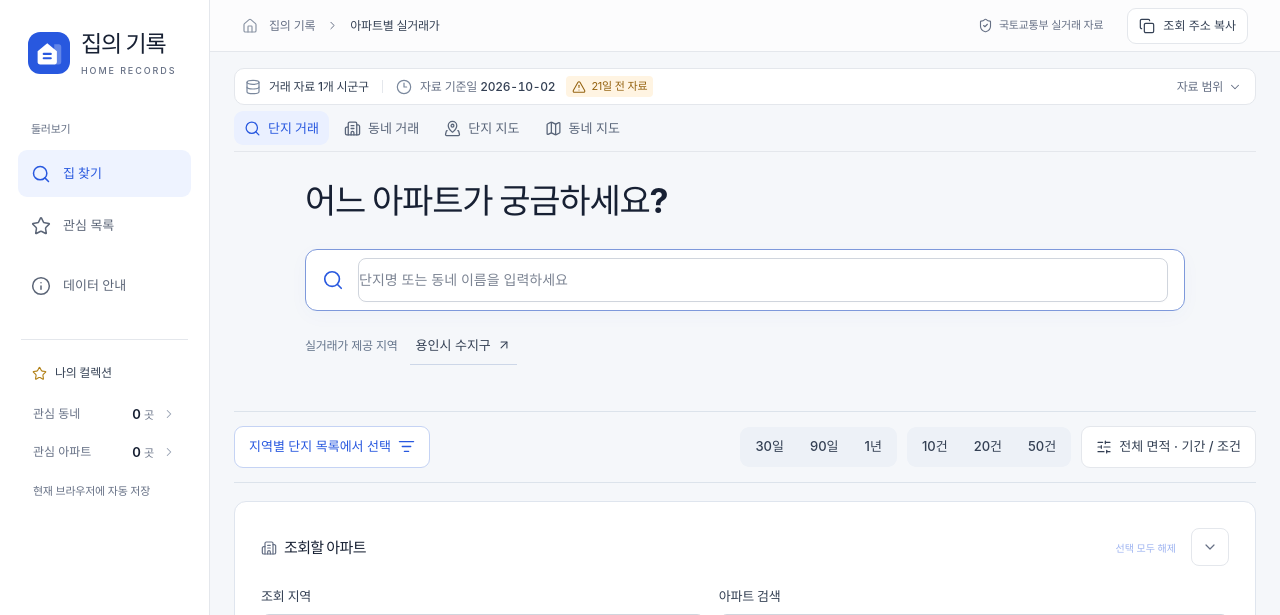
Test case: React transaction explorer › adds a personal apartment favorite through search while selecting multiple trades in the unified tab
The width and height of the screenshot is (1280, 615).
Click the button "전체 면적 · 기간 / 조건".
click(1169, 447)  # box [1081,426,1256,468]
(page scrolled)
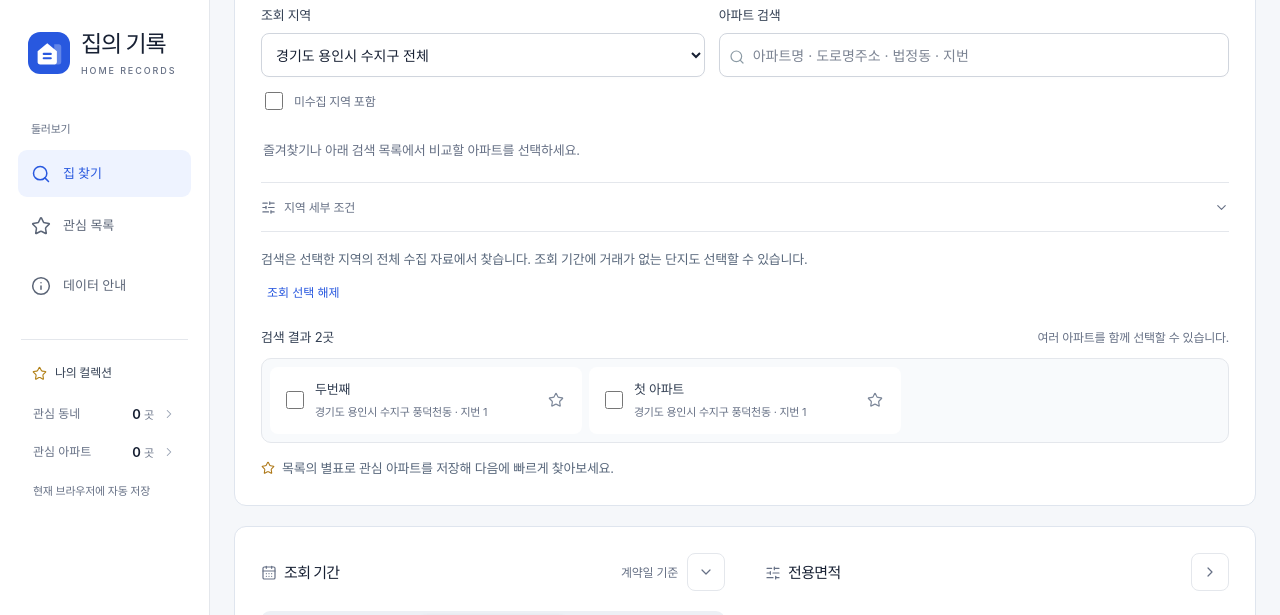
Click the button named "첫 아파트 경기도 용인시 수지구 풍덕천동 지번 1 즐겨찾기 추가".
click(875, 400)  # box [855,380,895,420]
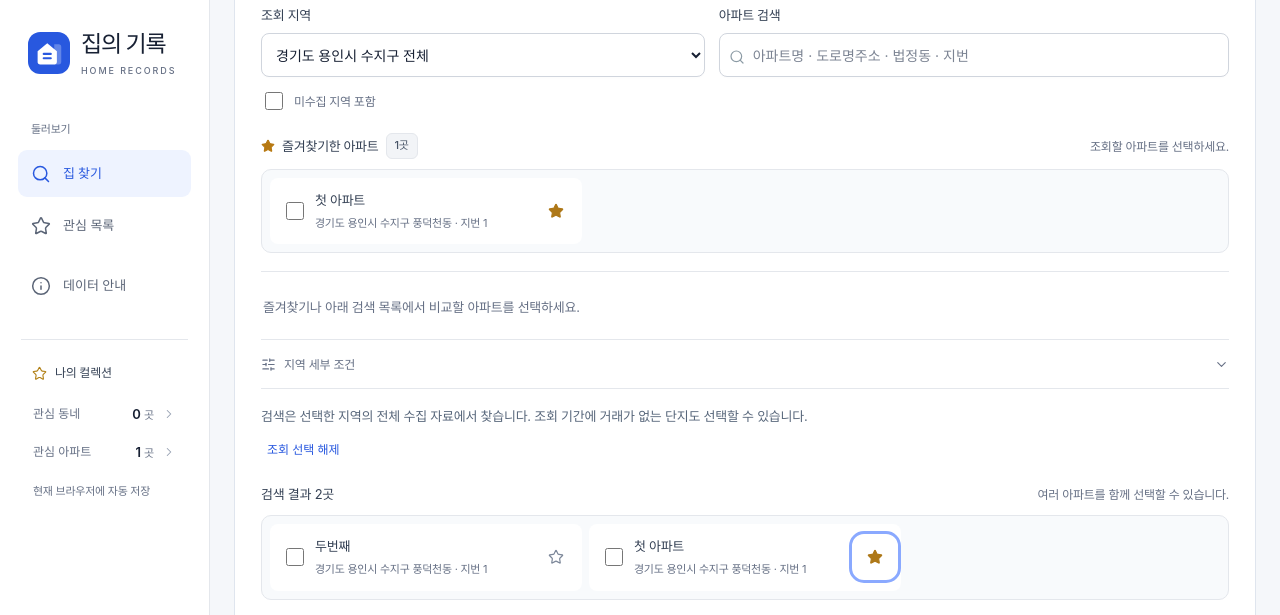
Click the checkbox labelled "첫 아파트 경기도 용인시 수지구 풍덕천동 · 지번 1" in the row of "두번째".
click(614, 557)  # box [605,548,623,566]
(page scrolled)
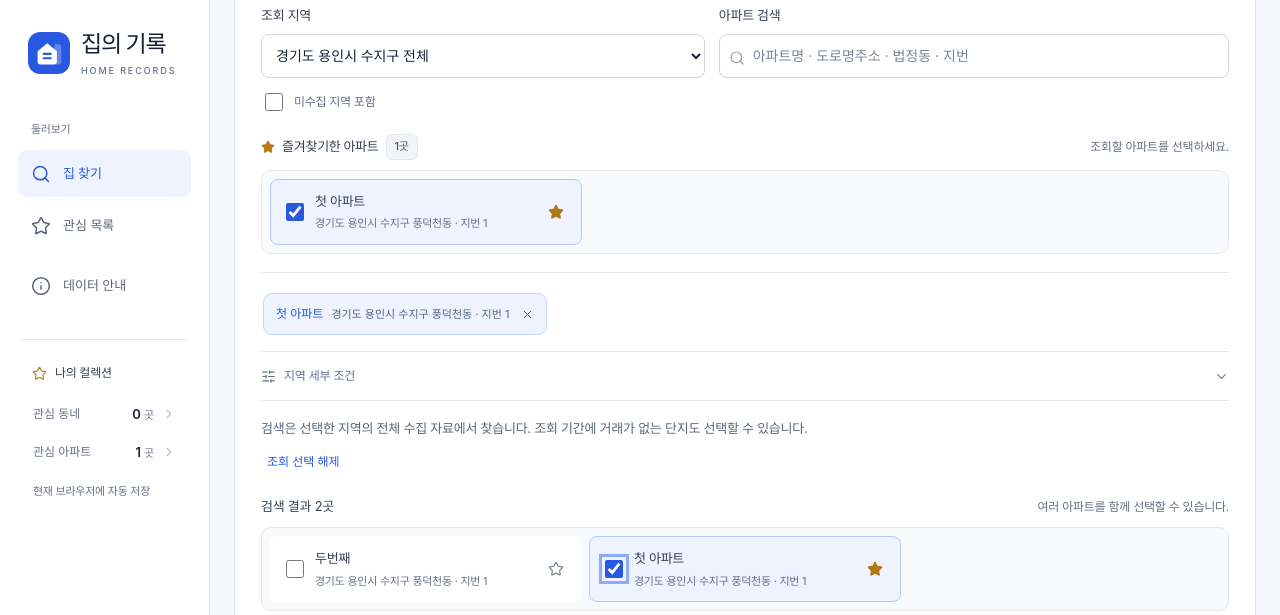
Expected: the button "관심 목록" is shown, [18,202,191,249]
Now the checkbox labelled "첫 아파트 경기도 용인시 수지구 풍덕천동 · 지번 1" below "즐겨찾기한 아파트" is checked, box [286,203,304,221]
